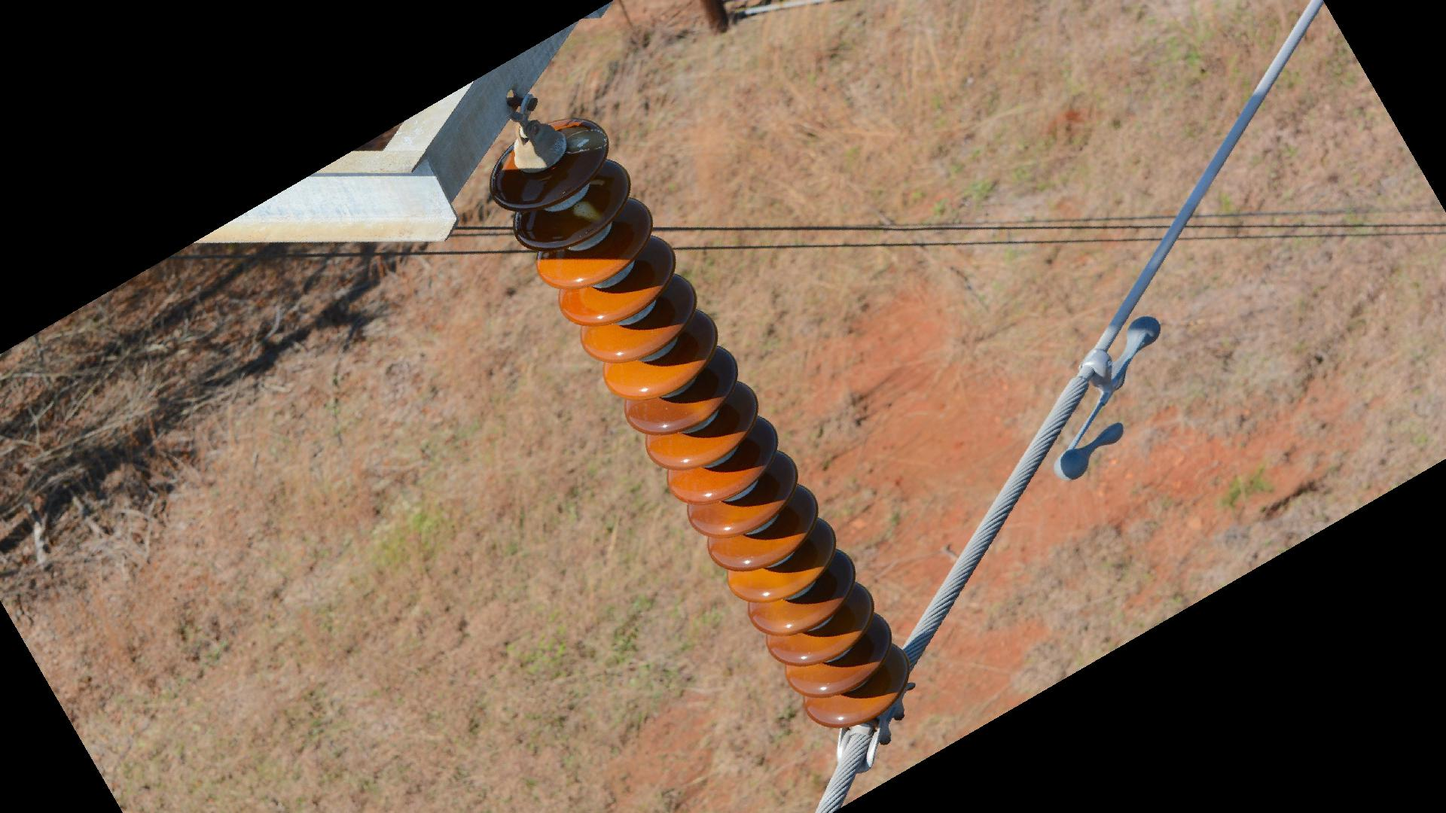insulator: (484, 111, 915, 734)
insulator_flashover: (563, 126, 607, 158), (569, 197, 607, 224)
